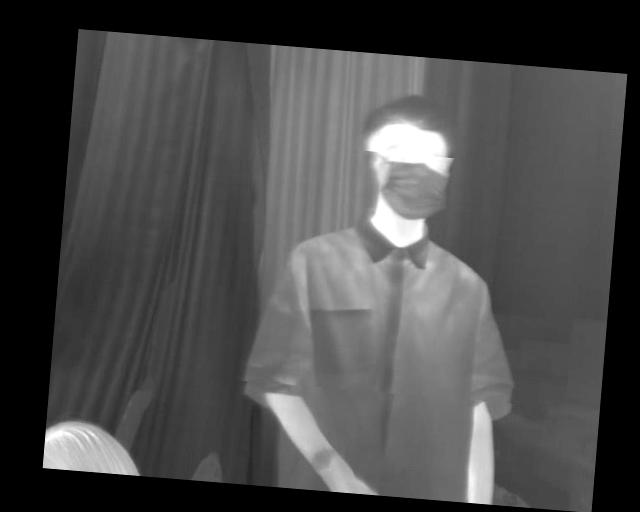face: (354, 89, 460, 222)
